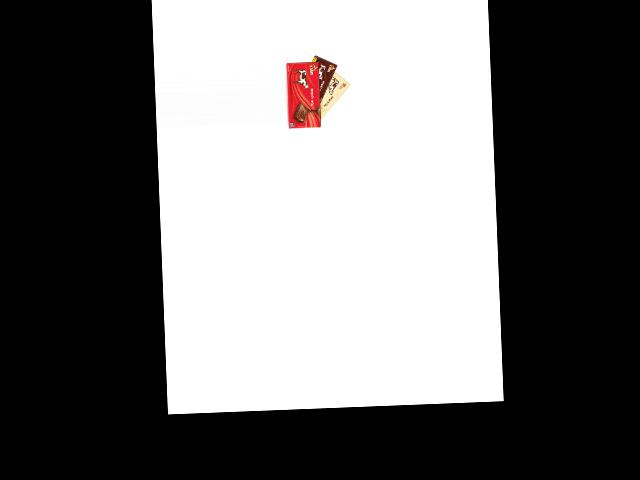chocolate: (312, 63, 352, 125)
